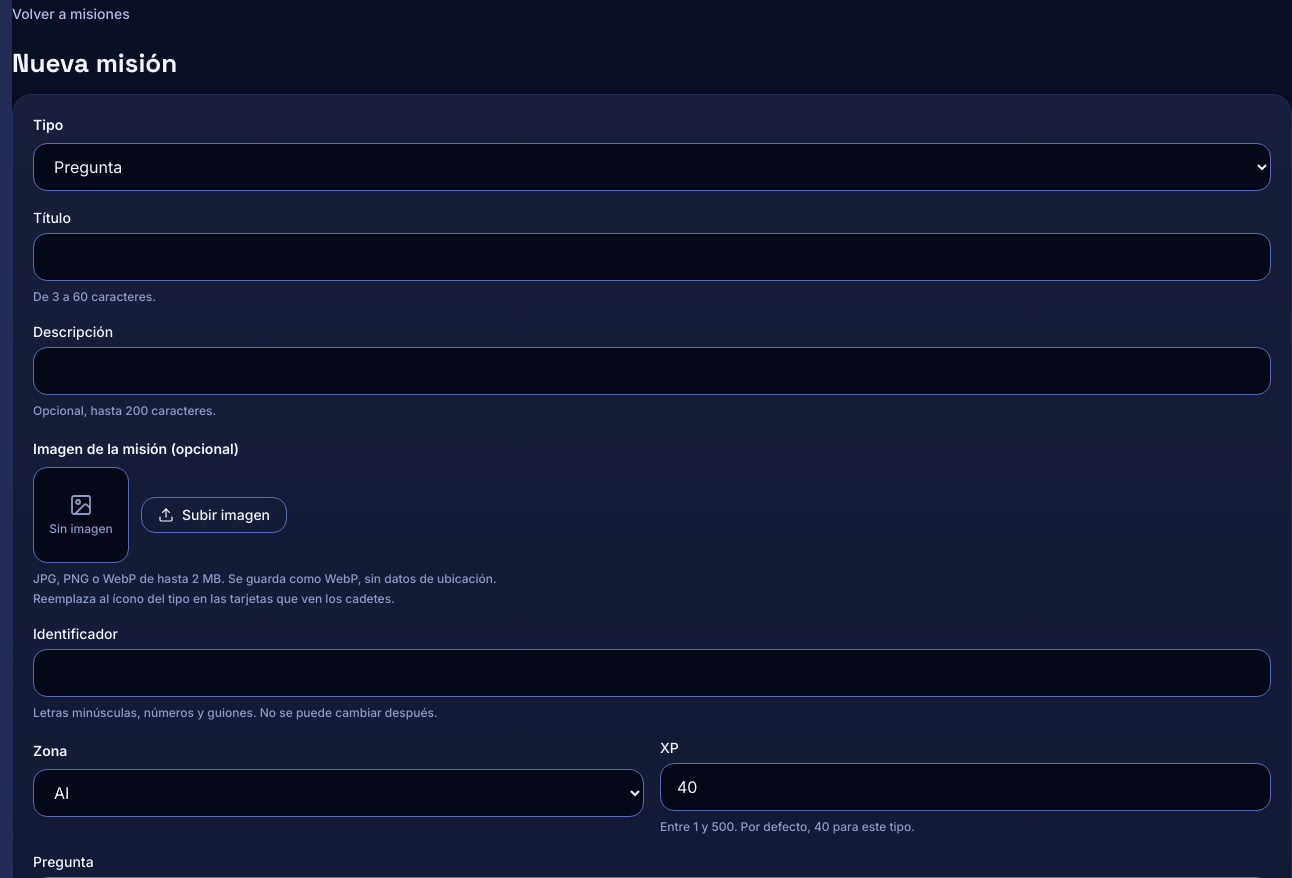
Test: MissionForm › shows a server refusal on its field, or above the form, and stays
This screenshot has width=1292, height=878.
Type "Desafío nuevo" into the field labelled "Título" at (652, 257), box x1=33 y1=233 x2=1271 y2=281
(page scrolled)
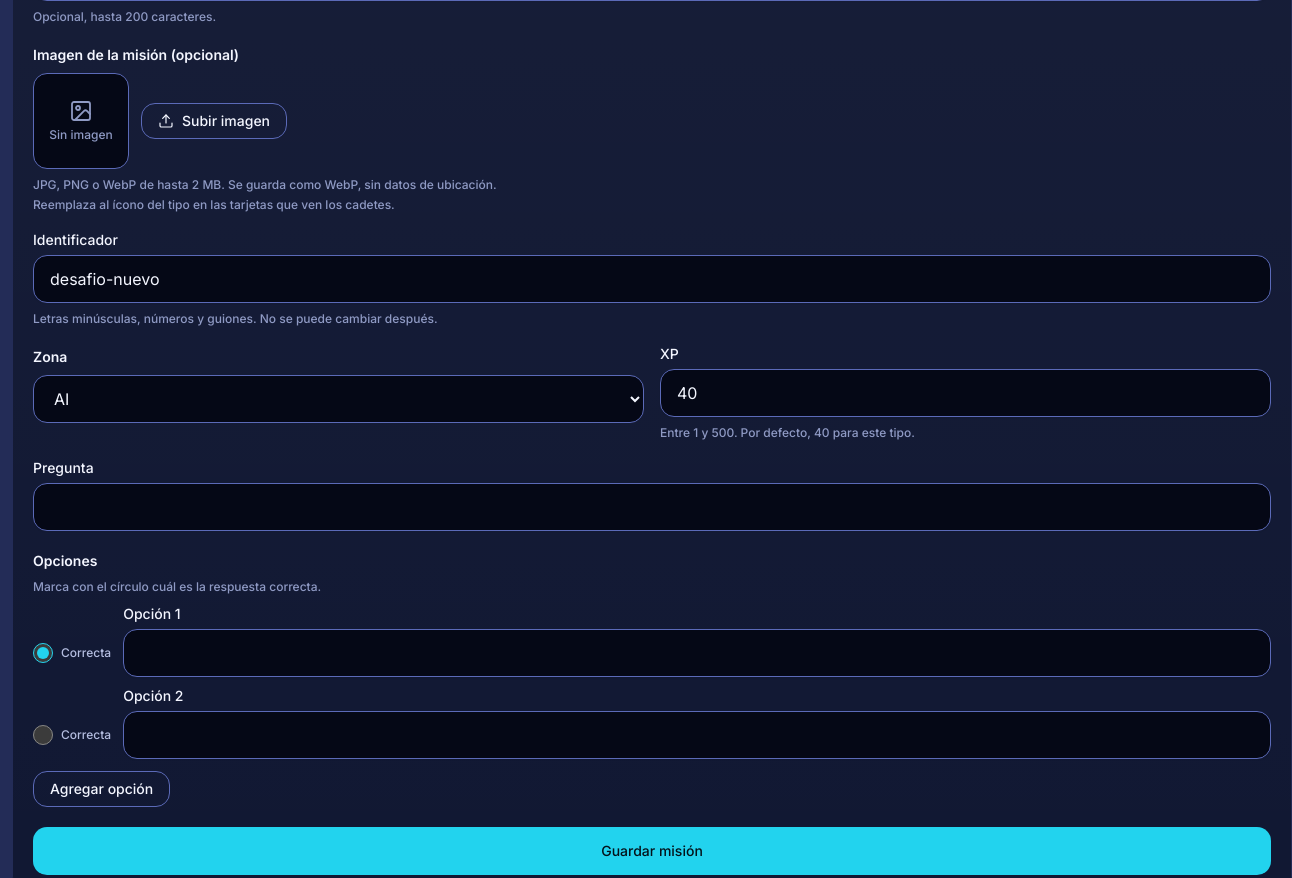
Type "¿Pregunta larga?" into the field labelled "Pregunta" at (652, 507), box x1=33 y1=483 x2=1271 y2=531
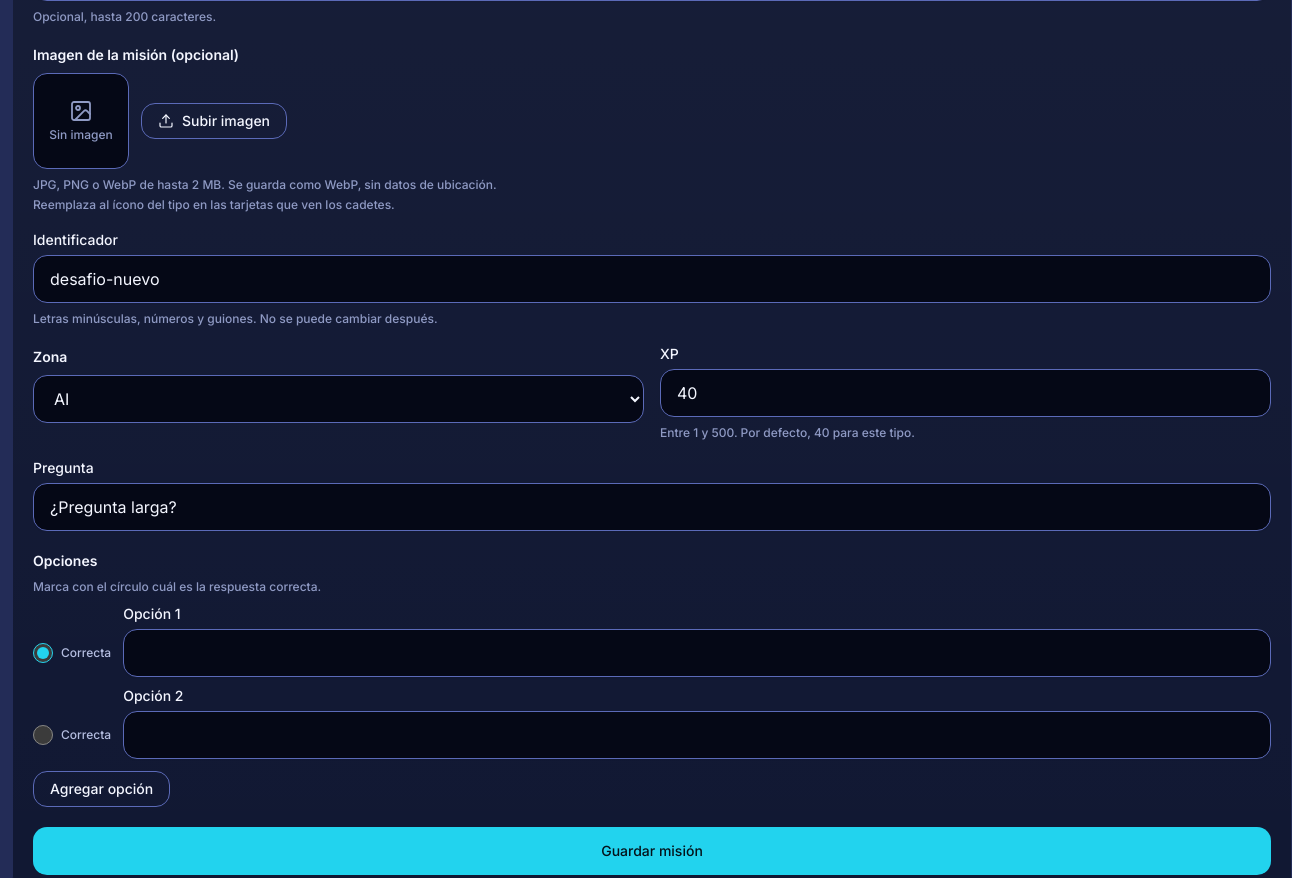
Type "Sí" into the field labelled "Opción 1" at (697, 653), box x1=123 y1=629 x2=1271 y2=677
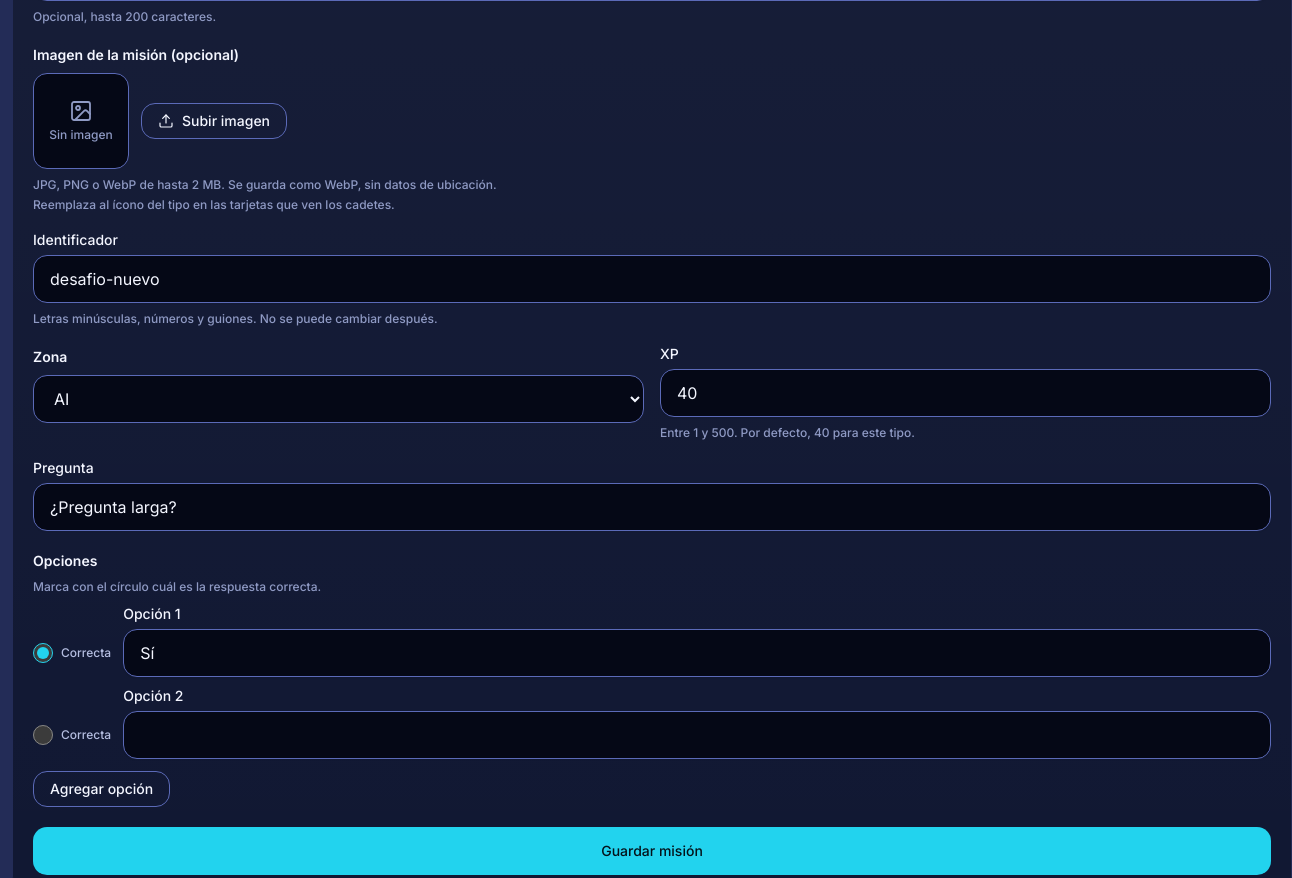
Type "No" into the field labelled "Opción 2" at (697, 735), box x1=123 y1=711 x2=1271 y2=759
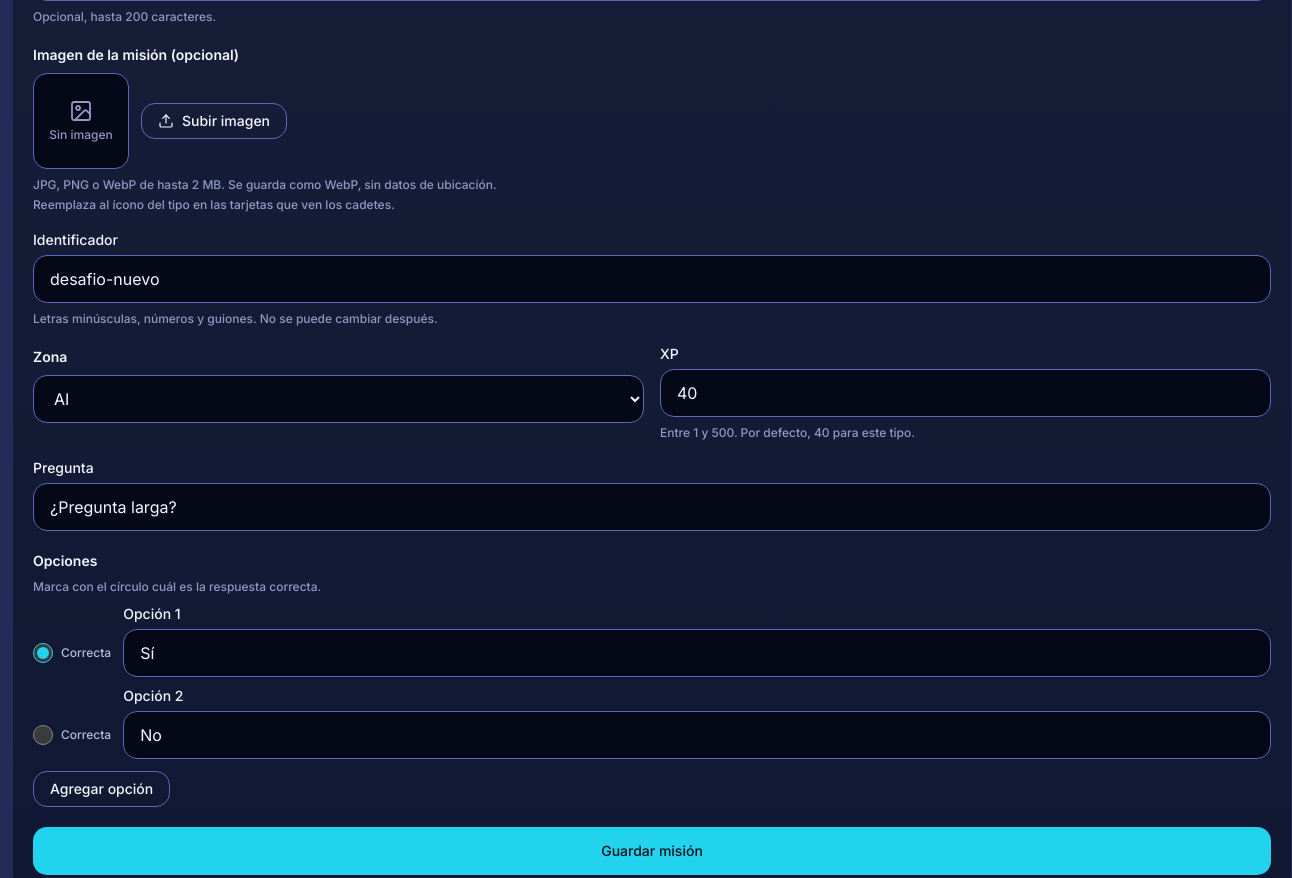
Click the button "Guardar misión" at (652, 851), box x1=33 y1=827 x2=1271 y2=875
(page scrolled)
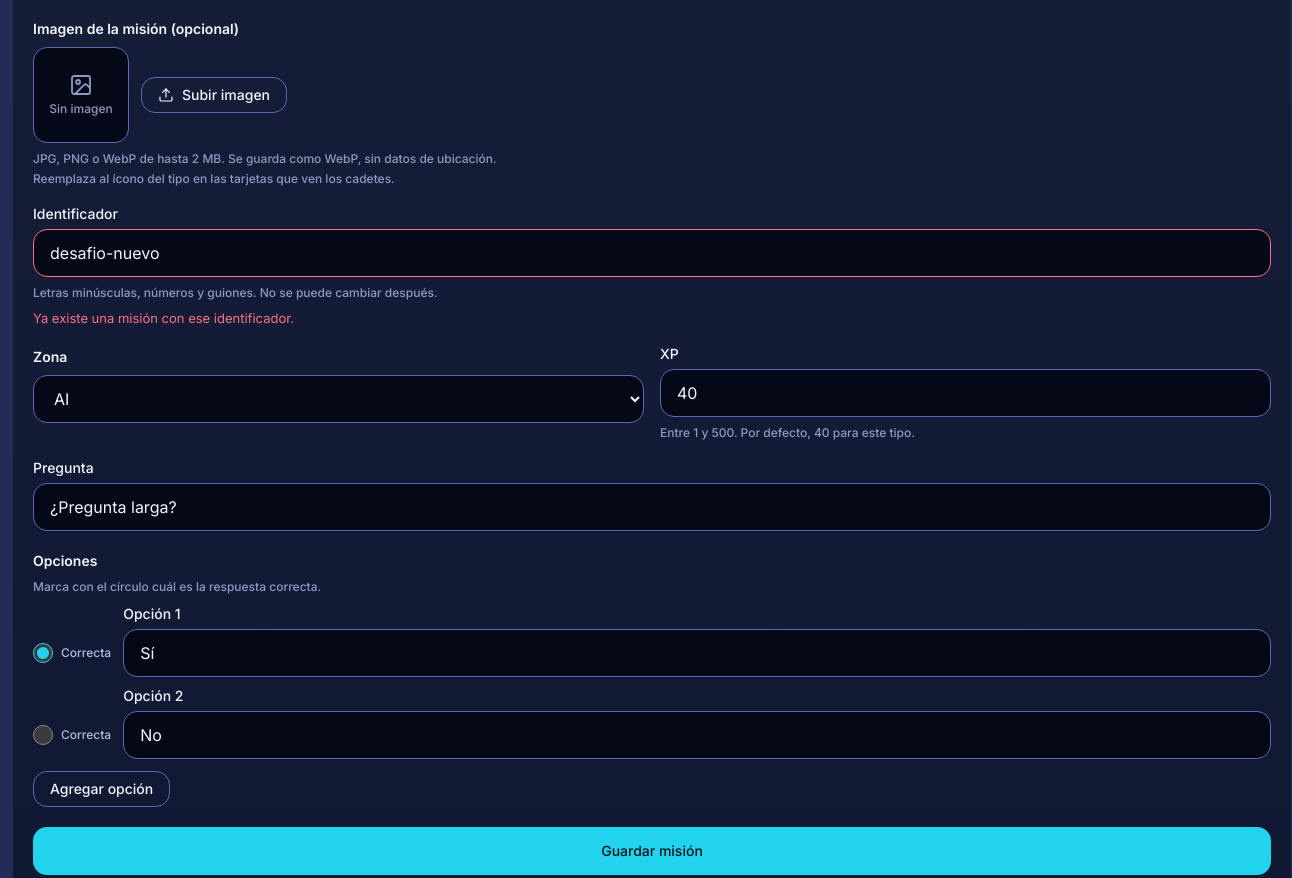
Expected: the text "Ya existe una misión con ese identificador." is shown, x1=33 y1=310 x2=294 y2=326
Click the button "Guardar misión" at (652, 851), box x1=33 y1=827 x2=1271 y2=875
(page scrolled)
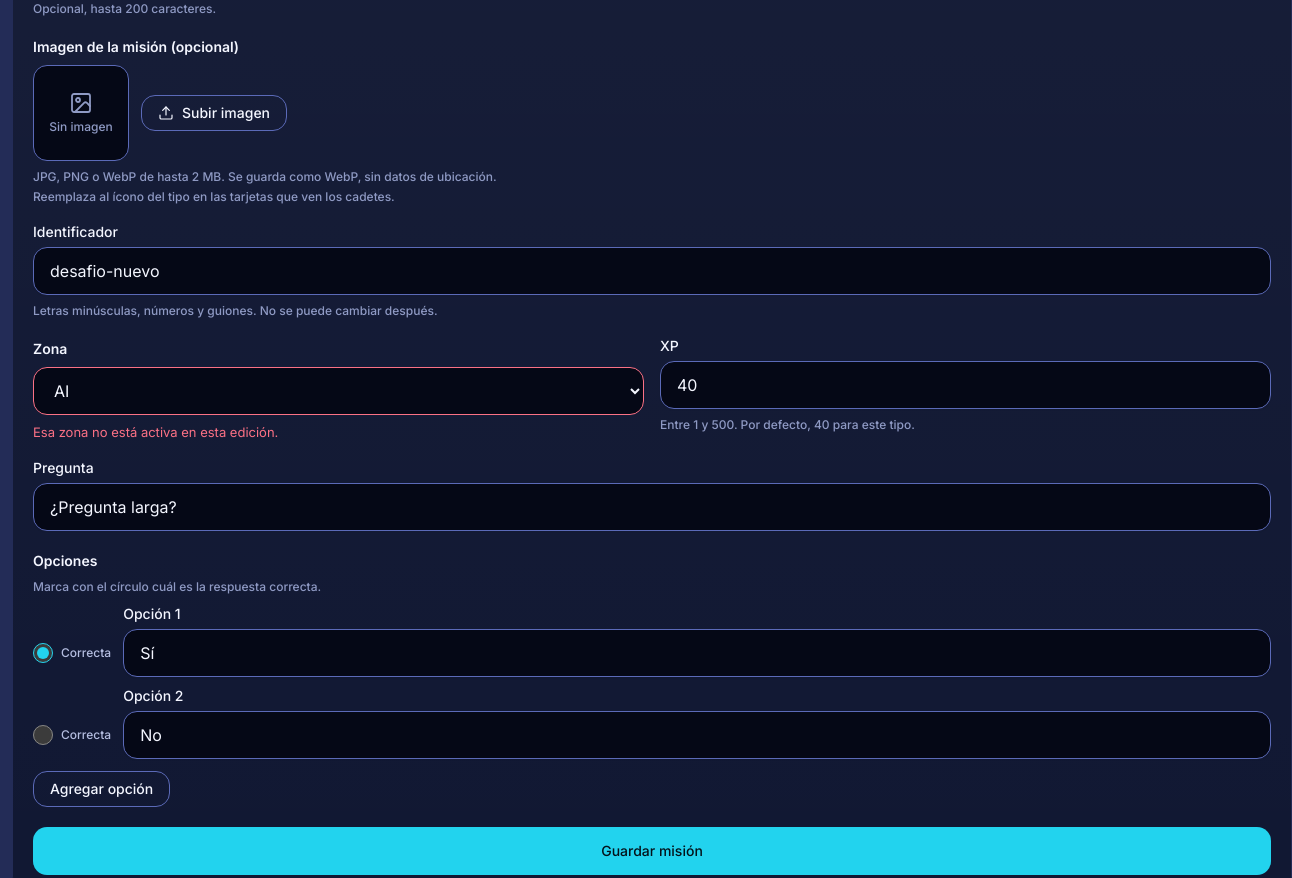
Expected: the text "Esa zona no está activa en esta edición." is shown, x1=33 y1=424 x2=278 y2=440
